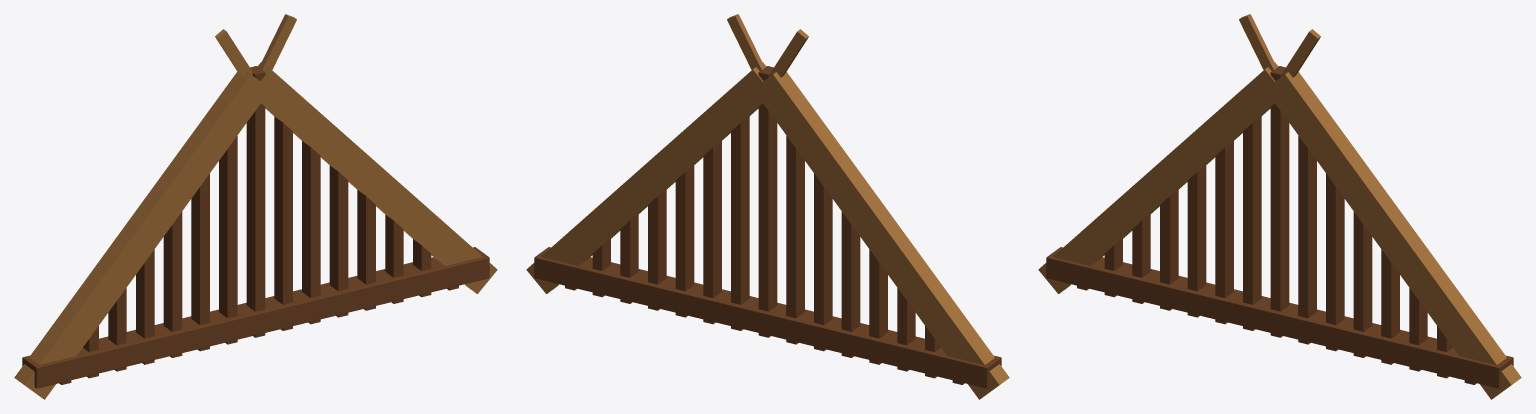
The model's file is source-edit.glb.
The picture shows the model from 3 angles, left to right: view 1: azimuth 30°, elevation 25°; view 2: azimuth 150°, elevation 25°; view 3: azimuth 330°, elevation 25°; orthographic projection.
Parts seen in each view (by area): view 1: GABLE_Rafter, GABLE_Tie, GABLE_Rafter.001, GABLE_Slat_0, GABLE_Slat_1, GABLE_Slat_-1, GABLE_Slat_2, GABLE_Slat_-2, GABLE_Slat_3, GABLE_Slat_-3, GABLE_Slat_4, GABLE_Slat_-4 (+6 smaller); view 2: GABLE_Rafter, GABLE_Tie, GABLE_Rafter.001, GABLE_Slat_0, GABLE_Slat_1, GABLE_Slat_-1, GABLE_Slat_2, GABLE_Slat_-2, GABLE_Slat_3, GABLE_Slat_-3, GABLE_Slat_4, GABLE_Slat_-4 (+6 smaller); view 3: GABLE_Rafter.001, GABLE_Tie, GABLE_Rafter, GABLE_Slat_0, GABLE_Slat_-1, GABLE_Slat_1, GABLE_Slat_-2, GABLE_Slat_2, GABLE_Slat_-3, GABLE_Slat_3, GABLE_Slat_-4, GABLE_Slat_4 (+6 smaller).
Part boxes in pixels (x1=…): GABLE_Rafter: x1=14, y1=72, x2=261, y2=399; GABLE_Tie: x1=22, y1=247, x2=489, y2=388; GABLE_Rafter.001: x1=252, y1=62, x2=497, y2=293; GABLE_Slat_0: x1=246, y1=66, x2=265, y2=337; GABLE_Slat_1: x1=274, y1=116, x2=292, y2=330; GABLE_Slat_-1: x1=219, y1=135, x2=237, y2=344; GABLE_Slat_2: x1=302, y1=141, x2=320, y2=324; GABLE_Slat_-2: x1=191, y1=173, x2=209, y2=351; GABLE_Slat_3: x1=329, y1=165, x2=348, y2=317; GABLE_Slat_-3: x1=163, y1=211, x2=182, y2=357; GABLE_Slat_4: x1=357, y1=190, x2=375, y2=310; GABLE_Slat_-4: x1=136, y1=249, x2=154, y2=364; GABLE_Rafter: x1=753, y1=72, x2=1009, y2=399; GABLE_Tie: x1=534, y1=247, x2=1001, y2=388; GABLE_Rafter.001: x1=526, y1=62, x2=772, y2=293; GABLE_Slat_0: x1=758, y1=66, x2=777, y2=337; GABLE_Slat_1: x1=731, y1=116, x2=749, y2=330; GABLE_Slat_-1: x1=786, y1=135, x2=804, y2=344; GABLE_Slat_2: x1=703, y1=141, x2=721, y2=324; GABLE_Slat_-2: x1=814, y1=173, x2=832, y2=351; GABLE_Slat_3: x1=675, y1=165, x2=694, y2=317; GABLE_Slat_-3: x1=841, y1=211, x2=860, y2=357; GABLE_Slat_4: x1=648, y1=190, x2=666, y2=310; GABLE_Slat_-4: x1=869, y1=249, x2=887, y2=364; GABLE_Rafter.001: x1=1265, y1=72, x2=1521, y2=399; GABLE_Tie: x1=1046, y1=247, x2=1513, y2=388; GABLE_Rafter: x1=1038, y1=62, x2=1284, y2=293; GABLE_Slat_0: x1=1270, y1=66, x2=1289, y2=337; GABLE_Slat_-1: x1=1243, y1=116, x2=1261, y2=330; GABLE_Slat_1: x1=1298, y1=135, x2=1316, y2=344; GABLE_Slat_-2: x1=1215, y1=141, x2=1233, y2=324; GABLE_Slat_2: x1=1326, y1=173, x2=1344, y2=351; GABLE_Slat_-3: x1=1187, y1=165, x2=1206, y2=317; GABLE_Slat_3: x1=1353, y1=211, x2=1372, y2=357; GABLE_Slat_-4: x1=1160, y1=190, x2=1178, y2=310; GABLE_Slat_4: x1=1381, y1=249, x2=1399, y2=364.
Size of the model in its own units: 3.76 by 2.43 by 0.2.
